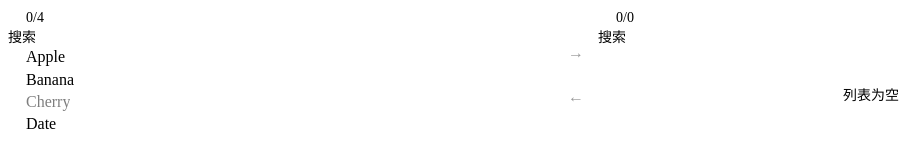
Test: Transfer › showSearch 渲染搜索框并按关键词过滤列表
The image size is (916, 160).
Type "an" into the search field with placeholder "搜索" below "0/4" at {"x": 281, "y": 38}, box [8,30,554,46]
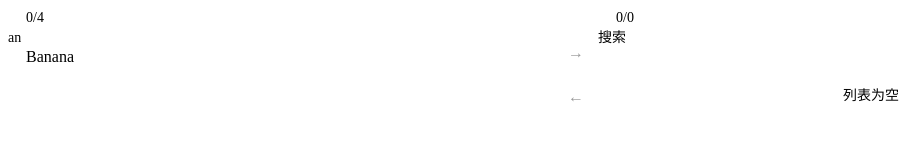
Expected: the text "Banana" is shown, [26,46,74,69]
Expected: the text "Apple" is gone
